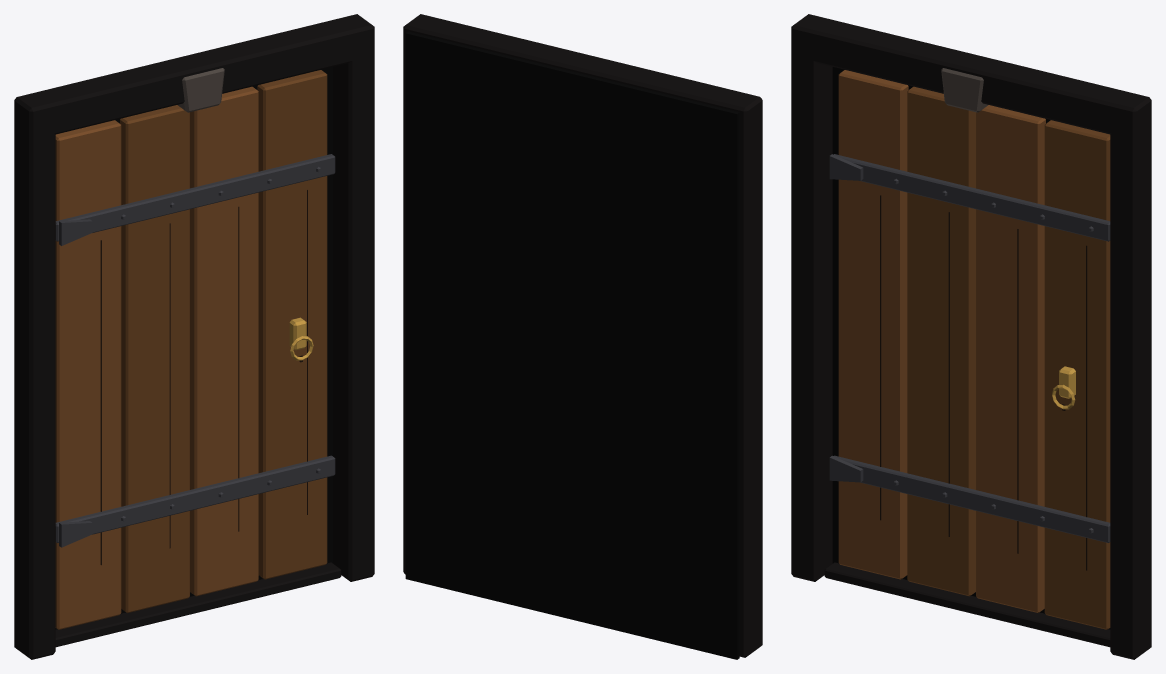
Rendered from door.obj.
The picture shows the model from 3 angles, left to right: view 1: azimuth 30°, elevation 25°; view 2: azimuth 150°, elevation 25°; view 3: azimuth 330°, elevation 25°; orthographic projection.
Parts seen in each view (by area): view 1: box.008, box.010, box.012, box.006, box.001, box.002, box.003, box.014, box.015, box.005, box, box.004 (+5 smaller); view 2: box, box.001, box.003, box.002; view 3: box.006, box.010, box.008, box.012, box.002, box.001, box.003, box.014, box.015, box.005, box, box.004 (+6 smaller).
Part boxes in pixels (x1=…): box.008: x1=120, y1=105, x2=189, y2=612; box.010: x1=190, y1=86, x2=258, y2=596; box.012: x1=257, y1=70, x2=327, y2=579; box.006: x1=55, y1=120, x2=121, y2=629; box.001: x1=14, y1=106, x2=55, y2=659; box.002: x1=333, y1=32, x2=374, y2=581; box.003: x1=14, y1=14, x2=374, y2=138; box.014: x1=55, y1=455, x2=335, y2=542; box.015: x1=55, y1=154, x2=335, y2=241; box.005: x1=55, y1=562, x2=341, y2=647; box: x1=55, y1=67, x2=333, y2=629; box.004: x1=178, y1=68, x2=224, y2=112; box: x1=405, y1=31, x2=739, y2=659; box.001: x1=739, y1=105, x2=762, y2=657; box.003: x1=403, y1=14, x2=762, y2=137; box.002: x1=403, y1=32, x2=405, y2=574; box.006: x1=838, y1=70, x2=908, y2=579; box.010: x1=976, y1=105, x2=1045, y2=612; box.008: x1=907, y1=86, x2=975, y2=596; box.012: x1=1044, y1=120, x2=1110, y2=629; box.002: x1=1110, y1=105, x2=1151, y2=659; box.001: x1=791, y1=32, x2=832, y2=581; box.003: x1=791, y1=14, x2=1151, y2=138; box.014: x1=833, y1=455, x2=1110, y2=542; box.015: x1=834, y1=154, x2=1110, y2=241; box.005: x1=824, y1=562, x2=1110, y2=647; box: x1=832, y1=67, x2=1110, y2=629; box.004: x1=941, y1=68, x2=987, y2=112.
Size of the model in its own units: 1.56 by 2.38 by 0.17.
